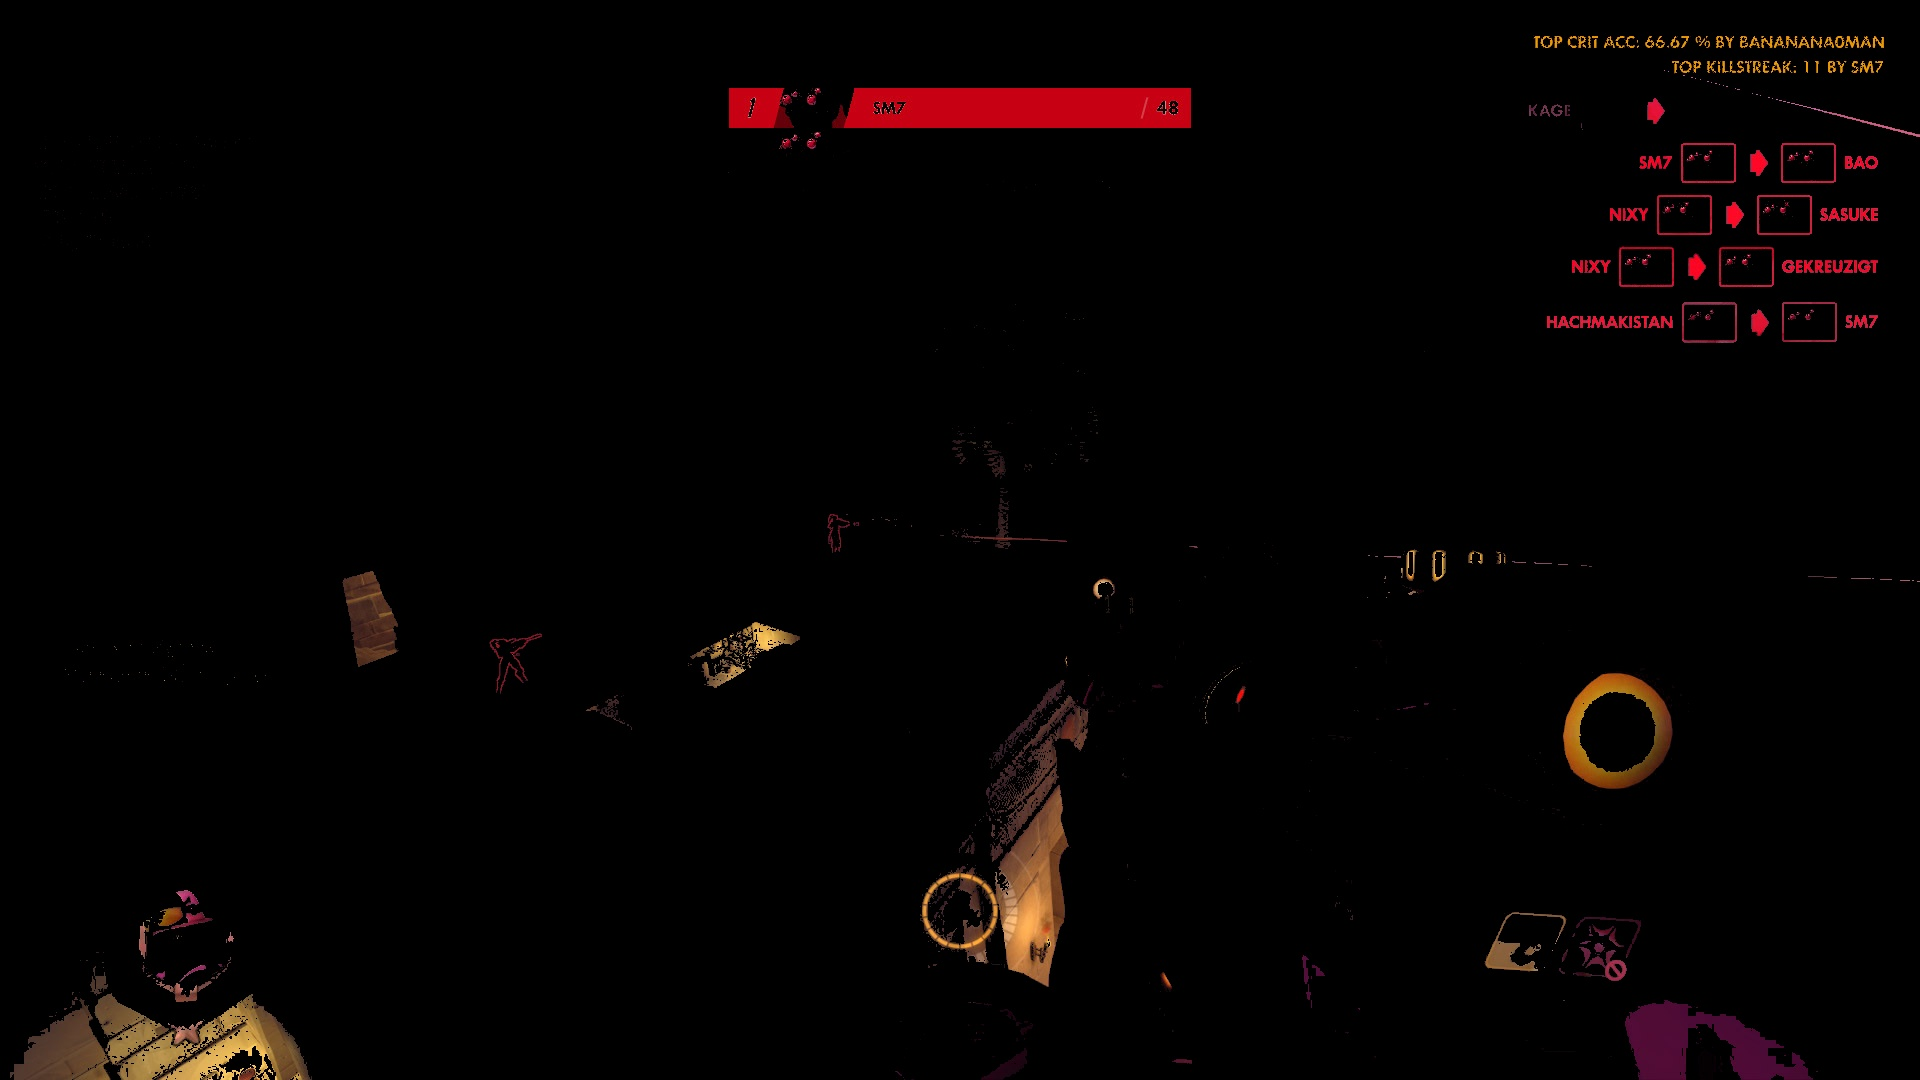widowmaker: (491, 626, 545, 702), (825, 512, 862, 560)
